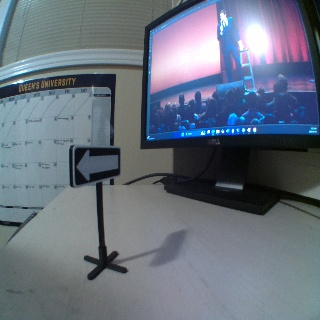sign_oneway_left: (69, 144, 119, 185)
